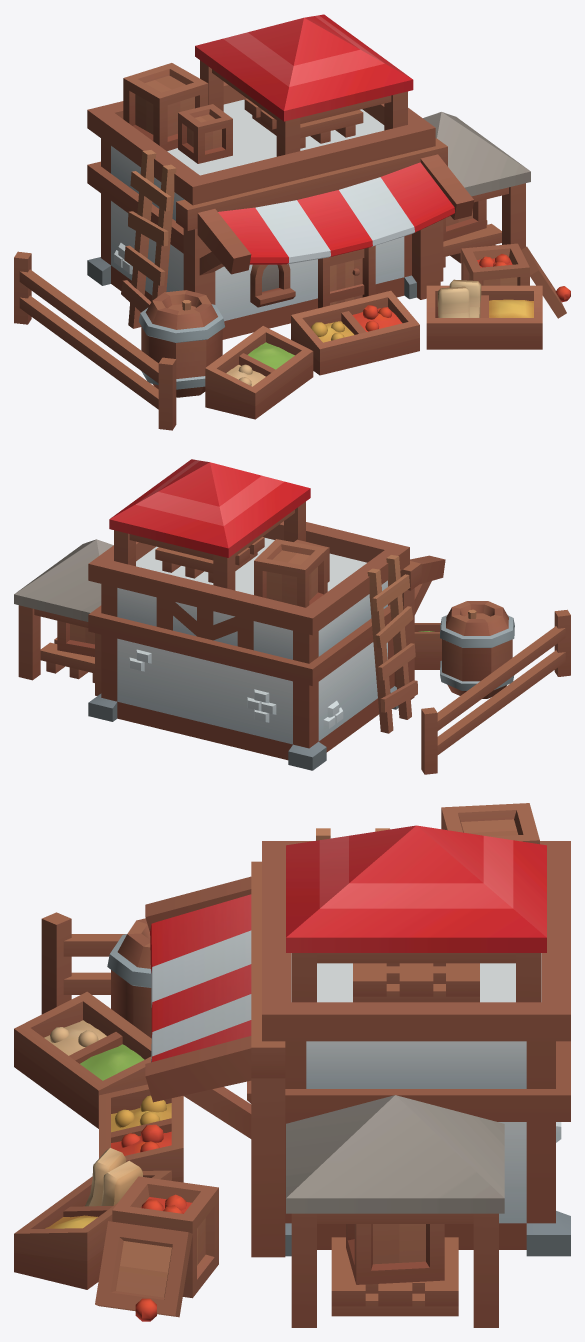
The model's file is kk_market_v1.glb.
3 views of the same model, one above another, from view 1: azimuth 30°, elevation 25°; view 2: azimuth 150°, elevation 25°; view 3: azimuth 270°, elevation 25° (orthographic). The views are drawn at different scales.
Parts seen in each view (by area): view 1: building_market_red; view 2: building_market_red; view 3: building_market_red.
Boxes of the visible parts, x1,y1,x2,y2 form: building_market_red: [14, 14, 570, 430]; building_market_red: [14, 459, 570, 774]; building_market_red: [14, 803, 570, 1327].
Bounding box in the file's own units: 1.8 × 0.9817 × 1.32.
Materials: 1 (1 with a texture image).
